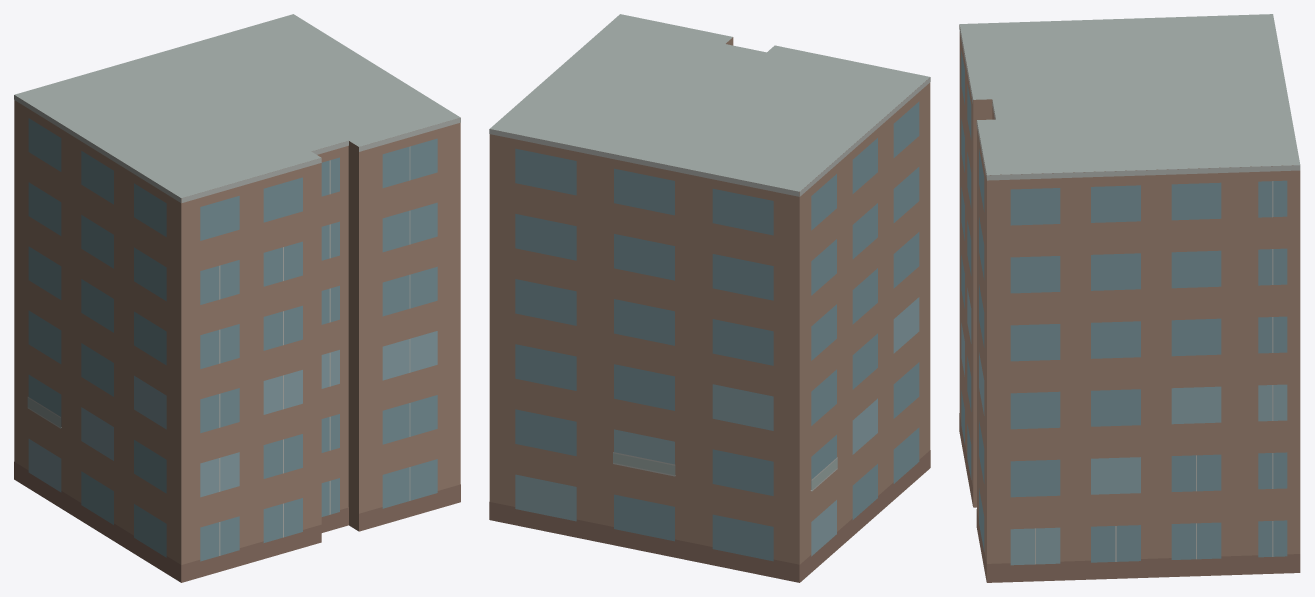
File: survey-upis-32739791.glb
The picture shows the model from 3 angles, left to right: view 1: azimuth 30°, elevation 25°; view 2: azimuth 150°, elevation 25°; view 3: azimuth 270°, elevation 25°; orthographic projection. The views are drawn at different scales.
Parts seen in each view (by area): view 1: survey-upis-32739791.tmp; view 2: survey-upis-32739791.tmp; view 3: survey-upis-32739791.tmp.
Boxes of the visible parts, left/top/right/bottom form: survey-upis-32739791.tmp: left=14, top=14, right=460, bottom=582; survey-upis-32739791.tmp: left=489, top=14, right=930, bottom=582; survey-upis-32739791.tmp: left=959, top=14, right=1300, bottom=582.
Bounding box in the file's own units: 15.83 × 18.65 × 14.14.
